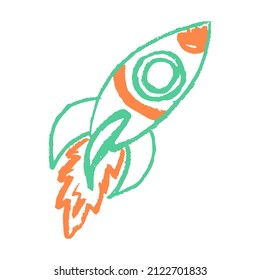roket: (43, 17, 214, 241)
